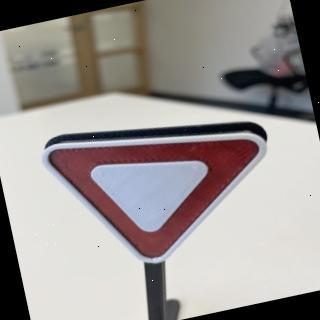sign_yield: (36, 94, 289, 290)
